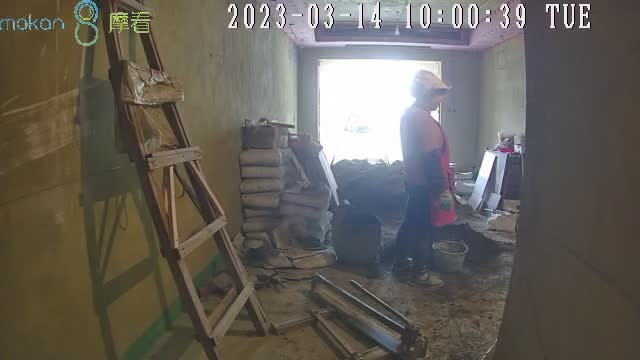people: (393, 70, 451, 286)
window: (318, 60, 444, 163)
